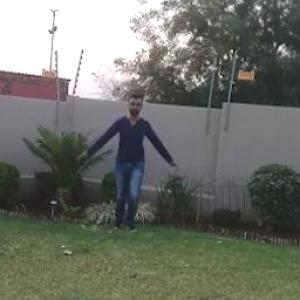land: (73, 92, 191, 246)
